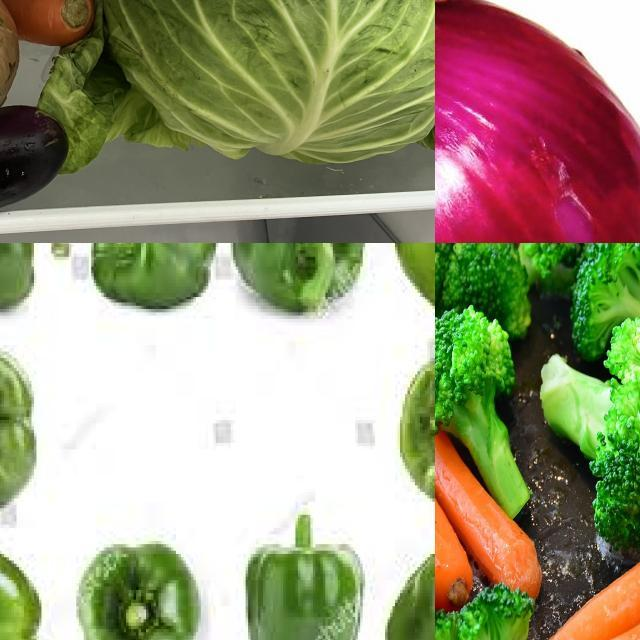bell_pepper: (232, 503, 376, 640), (61, 527, 210, 640), (233, 244, 379, 327), (84, 244, 224, 327), (391, 338, 436, 534), (1, 344, 51, 519), (1, 244, 73, 323), (1, 533, 52, 640), (386, 532, 436, 640)
cabbage: (38, 1, 436, 180)
carrot: (436, 335, 541, 603), (549, 435, 640, 640), (436, 312, 476, 611), (1, 1, 99, 51)
eggplant: (1, 102, 74, 244)
onion: (436, 1, 640, 244)
